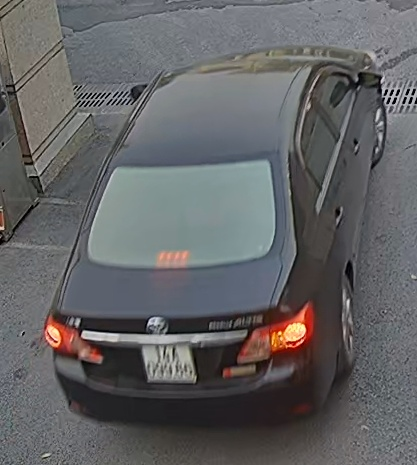vehicle plate: (134, 335, 200, 385)
